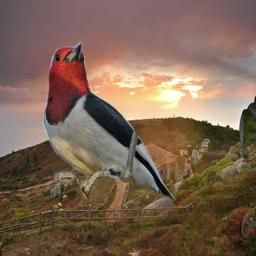Woodpecker: (37, 34, 184, 219)
